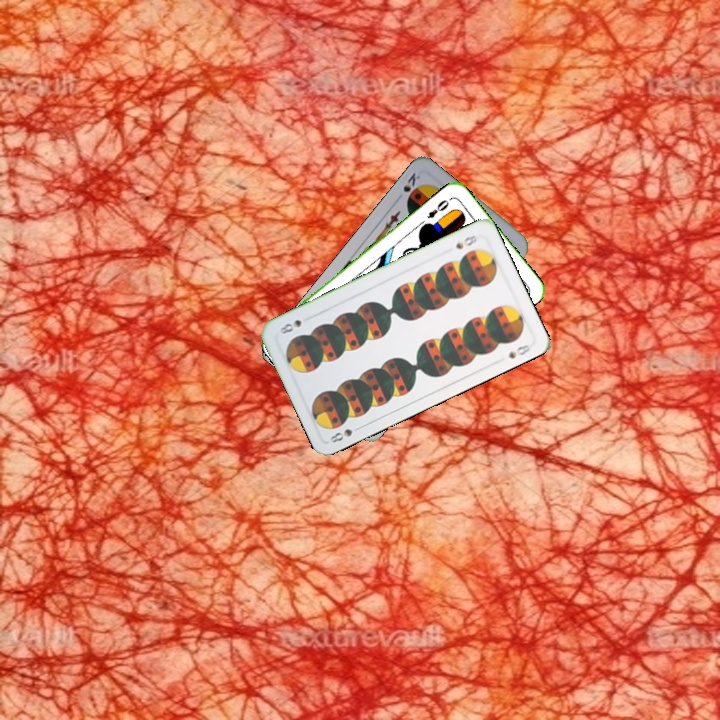EO: (423, 194, 454, 221)
S8: (326, 422, 365, 446), (451, 231, 480, 252)
SK: (399, 168, 423, 195)
